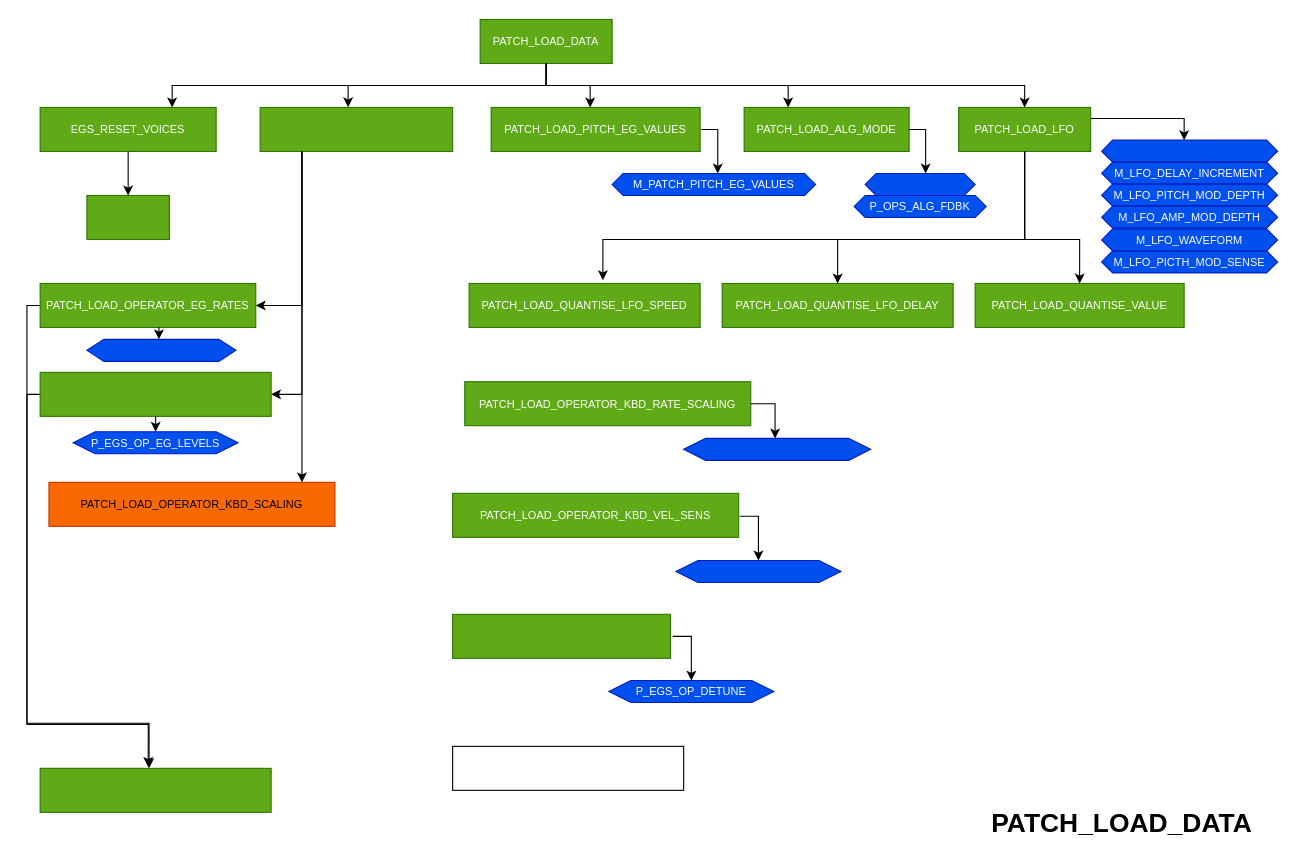
Image size: 1297x865. Some labels were removed from this diagram. The centre of each missing label's shape, as x and y in pixels:
DELAY: point (127, 216)
M_LFO_PHASE_INCREMENT: point (1189, 150)
M_PATCH_OP_SENSE: point (758, 570)
P_EGS_OP_EG_RATES: point (161, 349)
P_EGS_OP_SENS_SCALING: point (777, 448)
P_OPS_MODE: point (919, 183)
PATCH_GET_PTR_TO_SELECTED_OP: point (155, 789)
PATCH_LOAD_CALL_FUNC_PTR: point (356, 128)
PATCH_LOAD_OPERATOR_DETUNE: point (561, 635)
PATCH_LOAD_OPERATOR_EG_LEVELS: point (155, 393)
PATCH_LOAD_OPERATOR_PITCH: point (568, 767)
